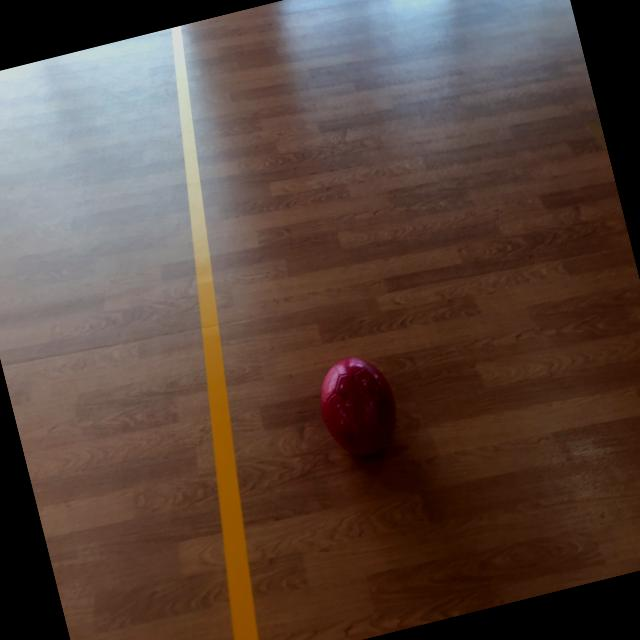red_ball: (312, 350, 407, 468)
